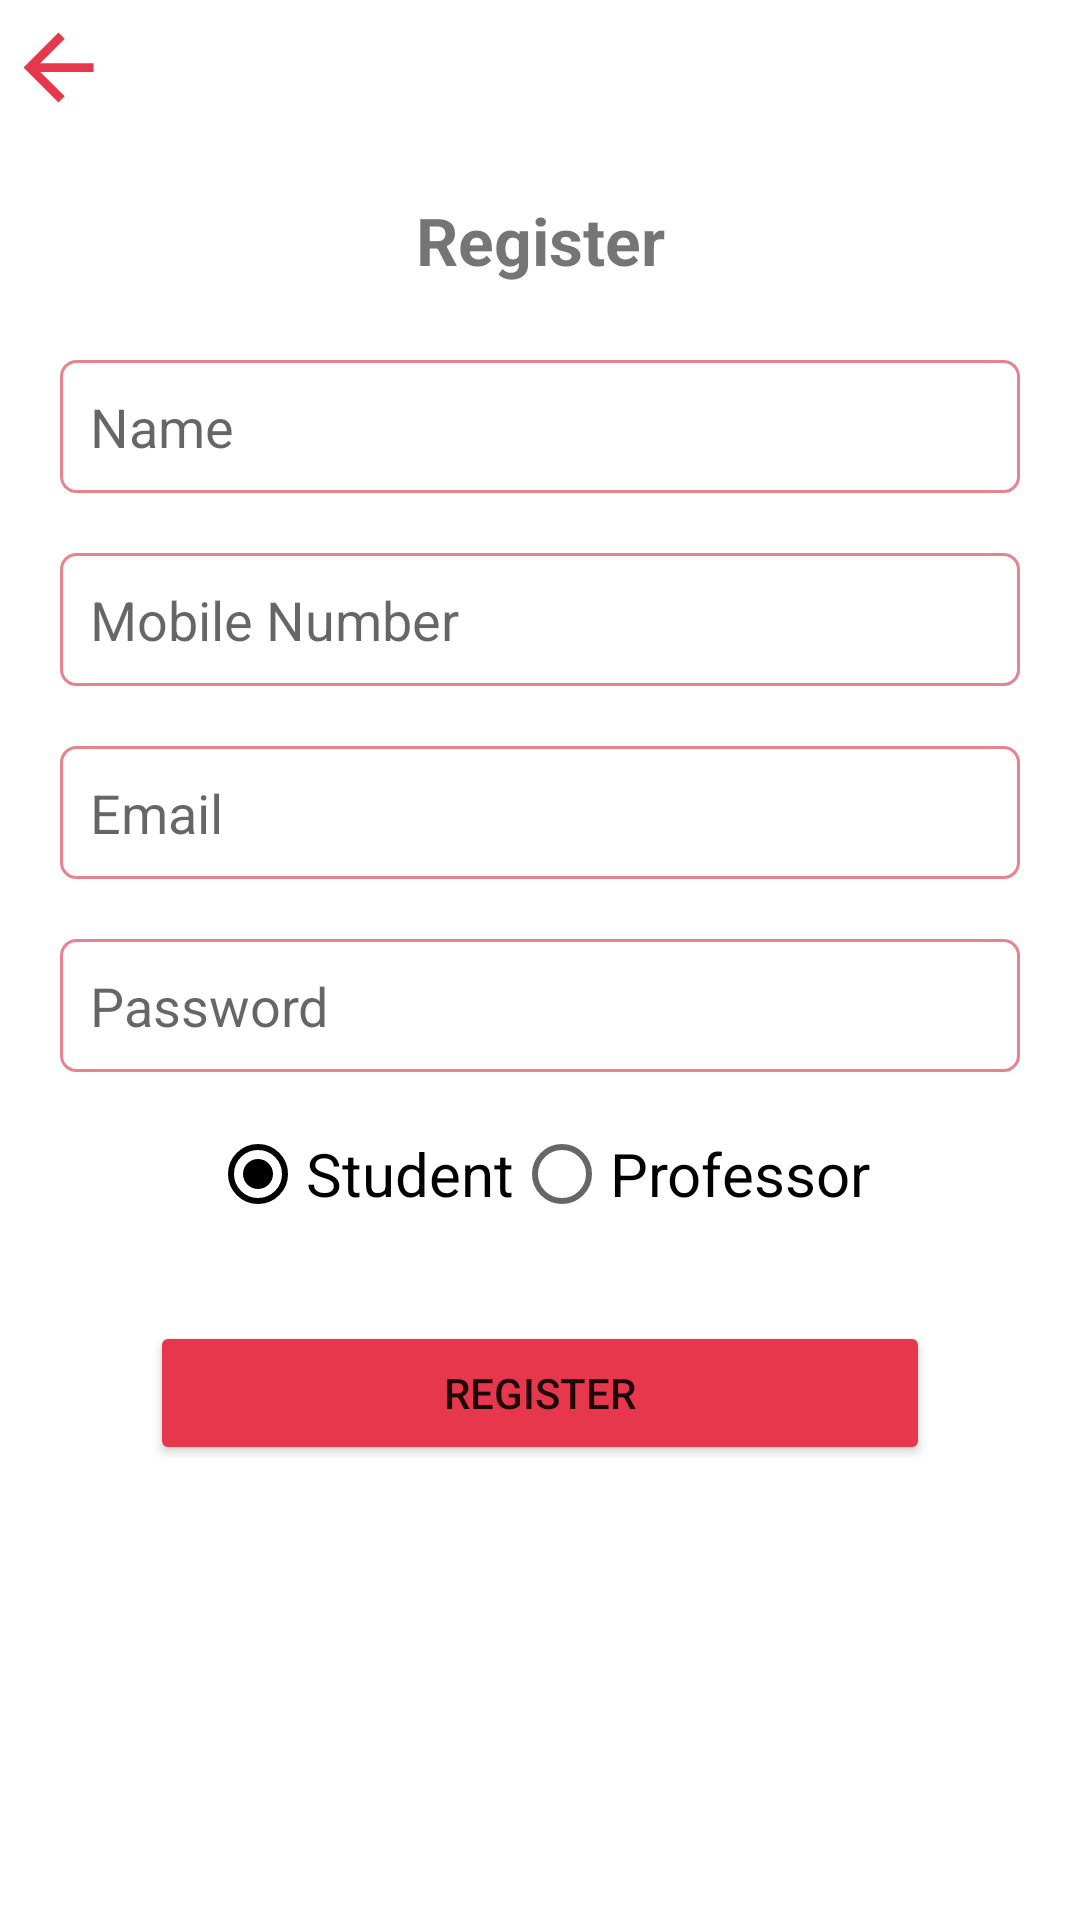

Screen size 1080 × 1920. Icon name, then its box in pixels as (x1, y1, x2, y2):
backbtn: (23, 32, 94, 103)
